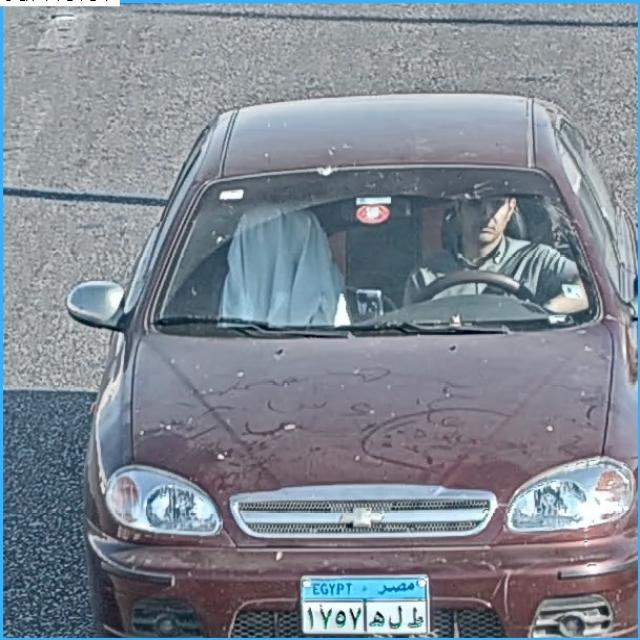windshield: (160, 172, 600, 324)
